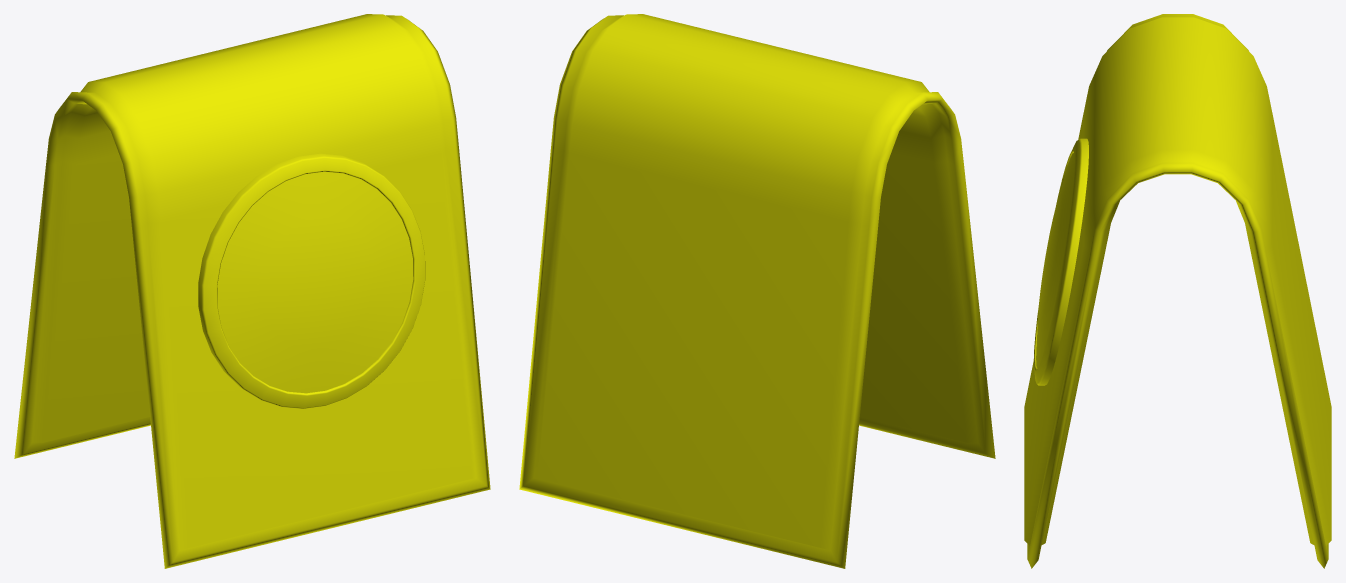
File: Clock.fbx
3 views of the same model, side by side, from view 1: azimuth 30°, elevation 25°; view 2: azimuth 150°, elevation 25°; view 3: azimuth 270°, elevation 25° (orthographic). The views are drawn at different scales.
Parts seen in each view (by area): view 1: Clock1, Clock; view 2: Clock1; view 3: Clock1, Clock.
Boxes of the visible parts, x1,y1,x2,y2 form: Clock1: [14, 14, 490, 568]; Clock: [217, 171, 413, 393]; Clock1: [519, 14, 995, 568]; Clock1: [1024, 14, 1331, 568]; Clock: [1036, 153, 1074, 368].
Bounding box in the file's own units: 11.2 × 13.73 × 9.36.
